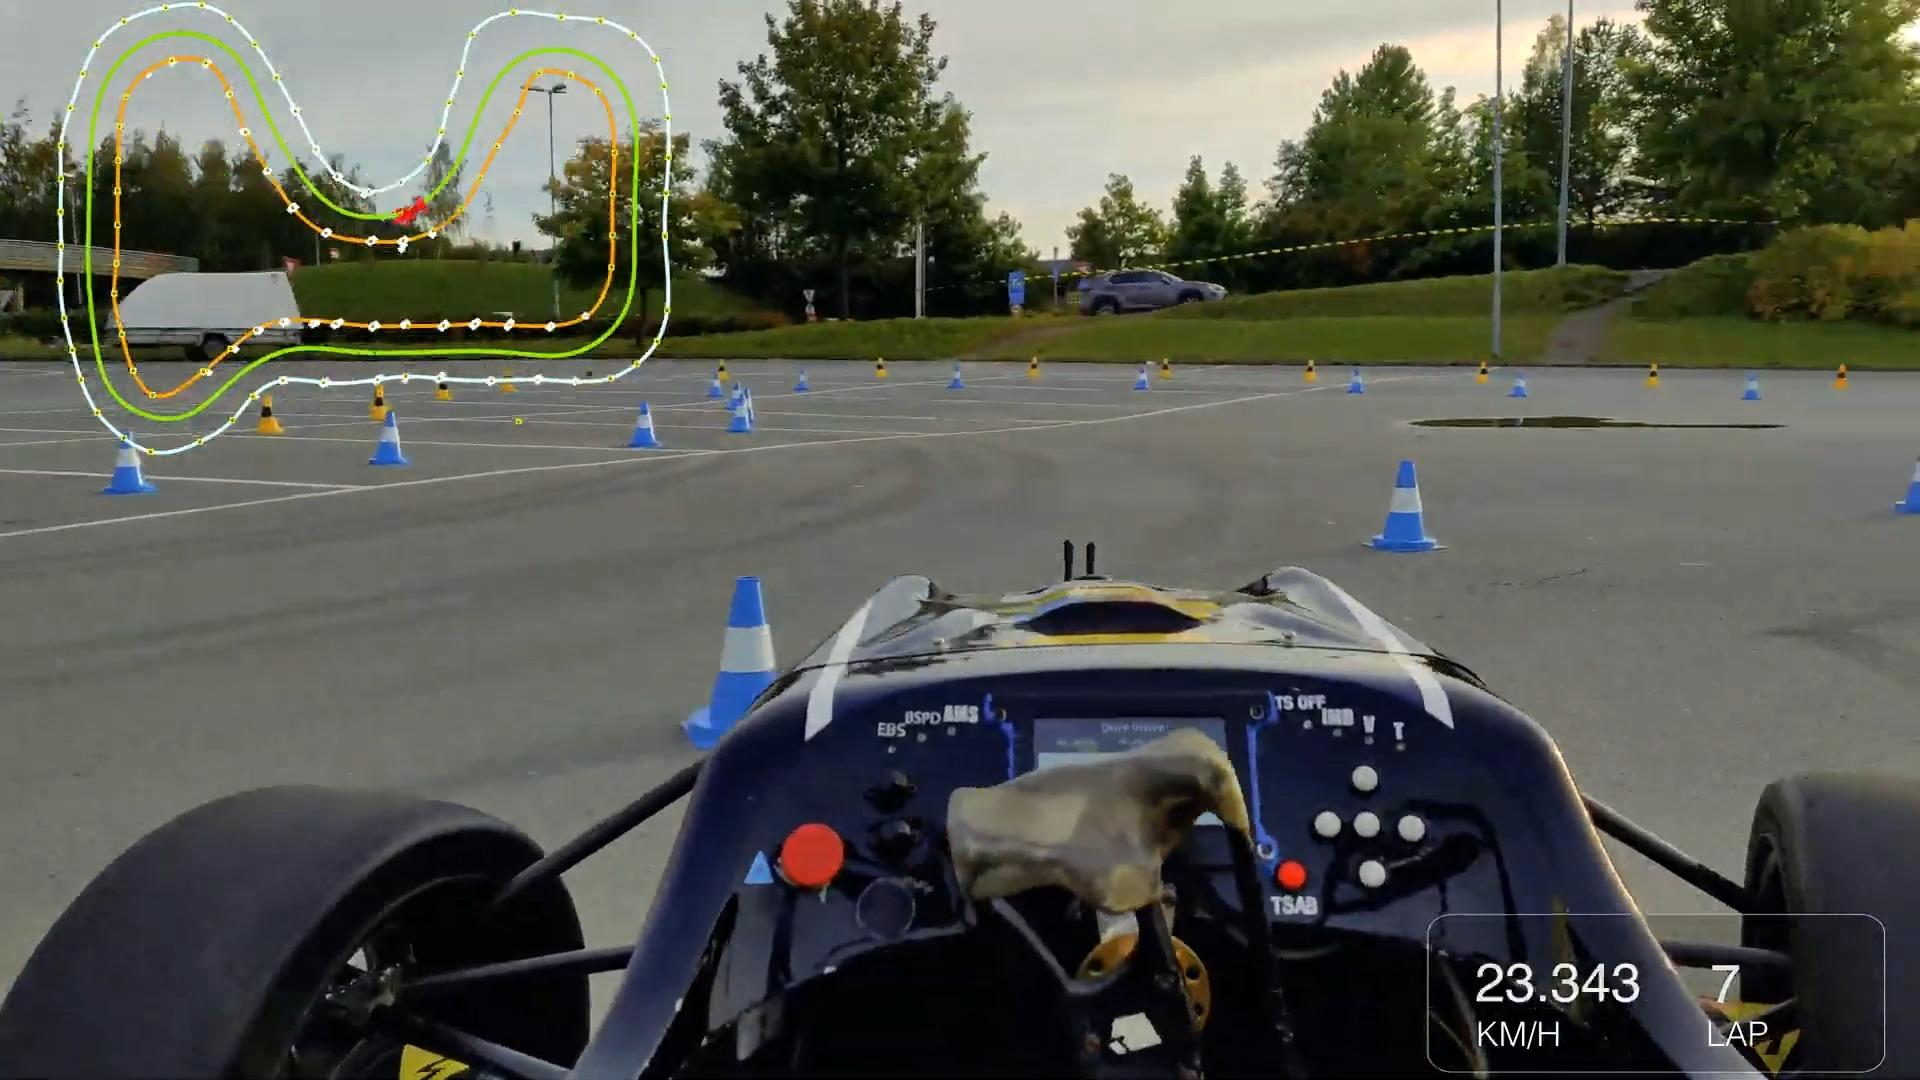blue_cone: (701, 554, 806, 750), (1378, 459, 1444, 565), (619, 401, 674, 455), (101, 425, 139, 503), (372, 406, 421, 466), (716, 392, 753, 430)
